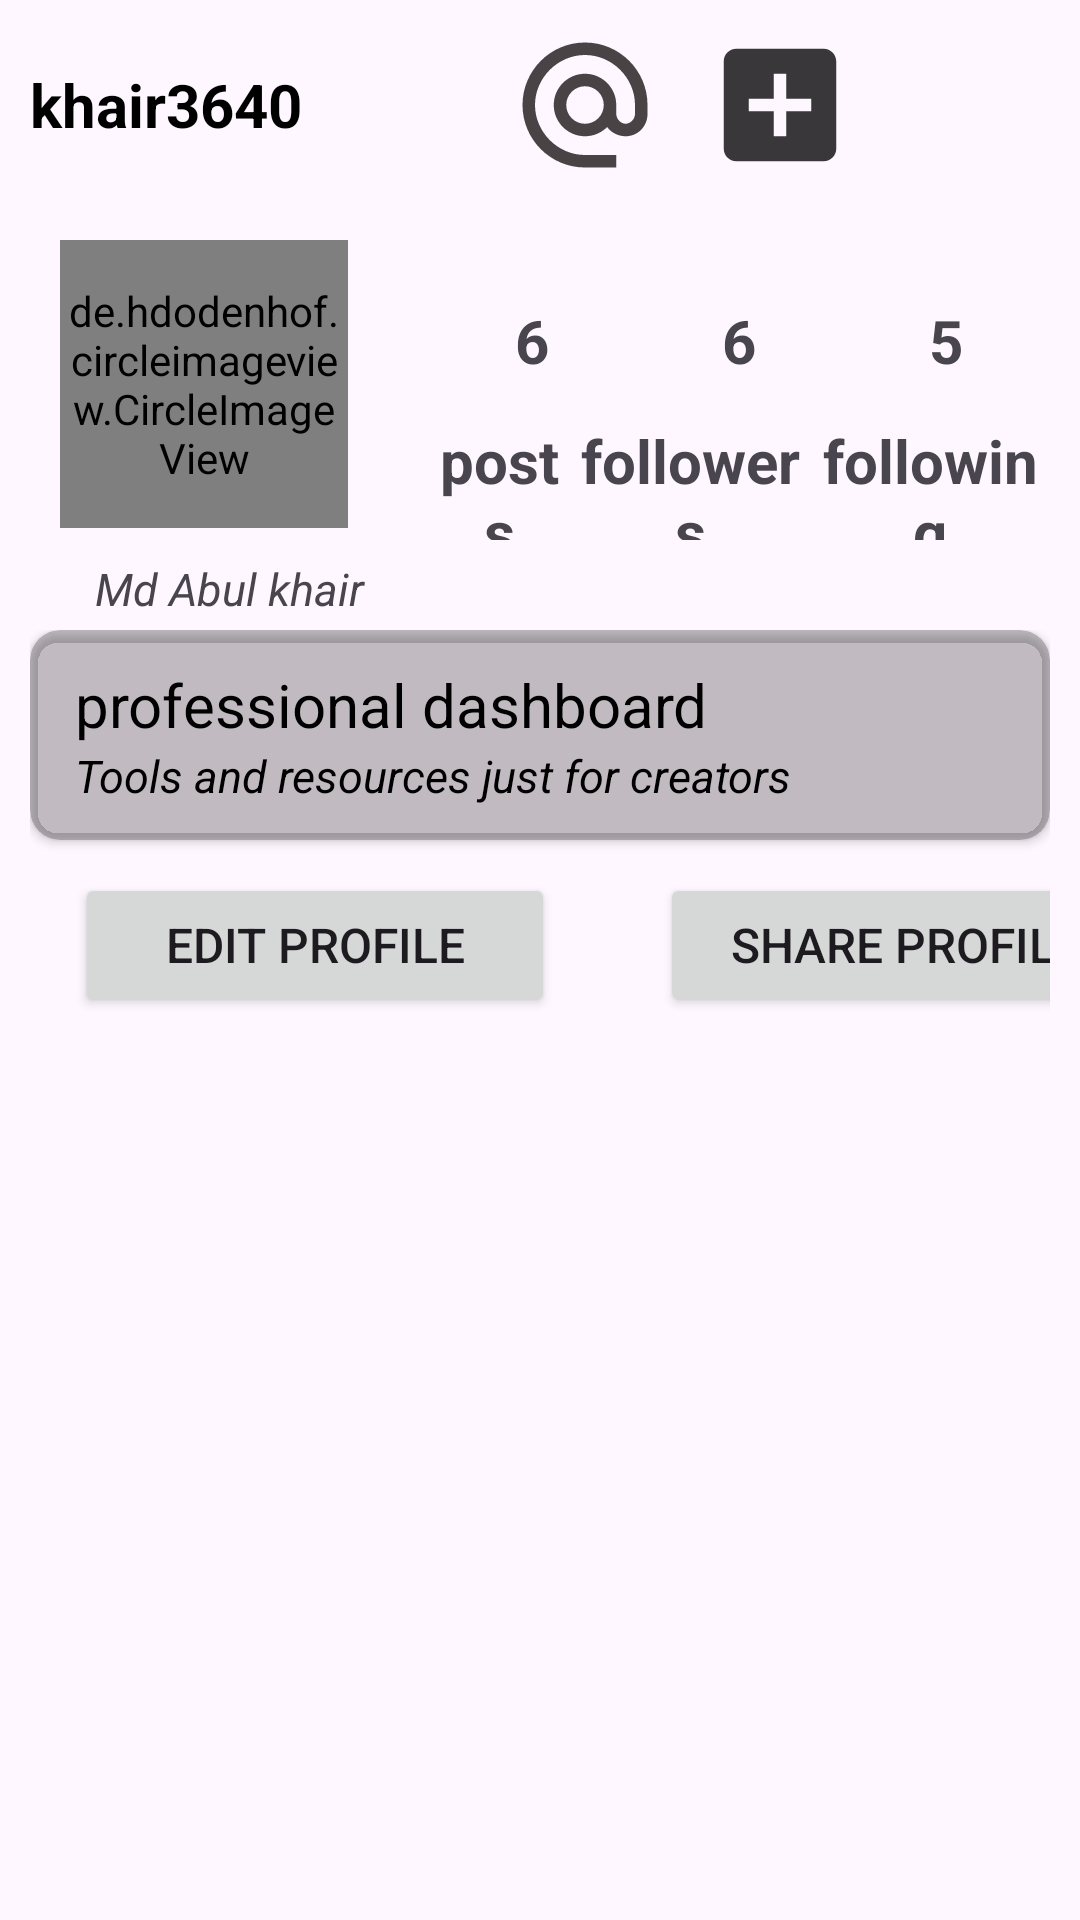

Screen size 1080w x 1920h. Icon name, then its center in pixels as (x=x, y=y):
add box: (x=780, y=105)
alternate email: (x=585, y=105)
